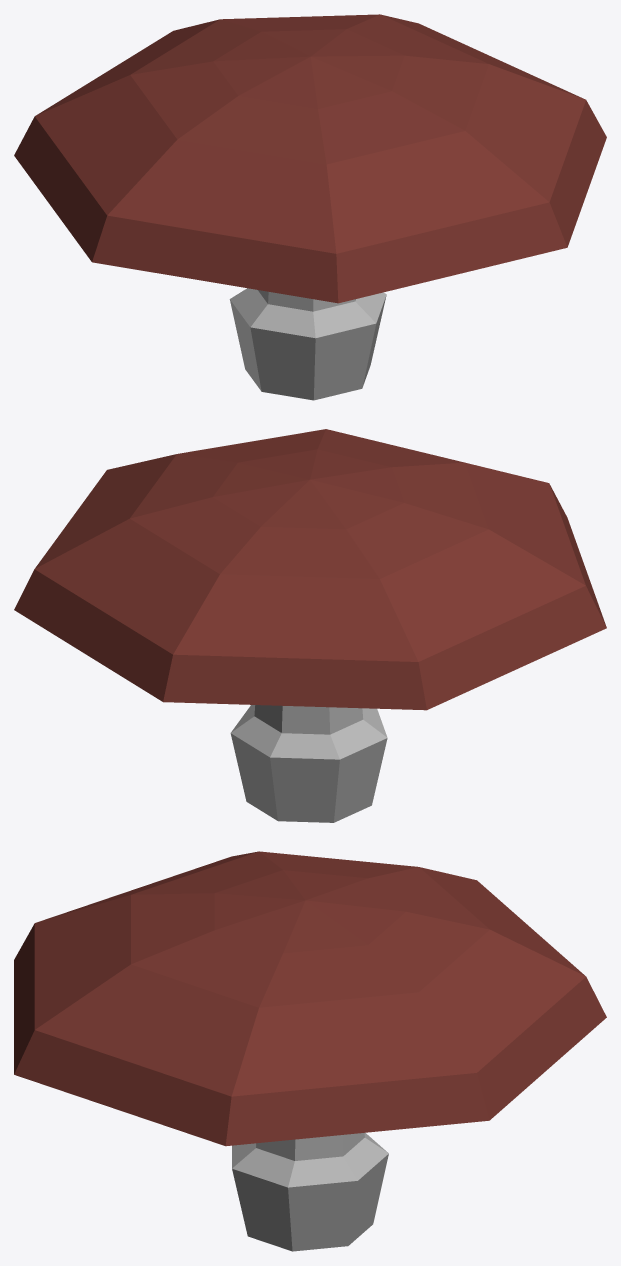
File: plant_mushroom_giant_3.glb
3 views of the same model, one above another, from view 1: azimuth 30°, elevation 25°; view 2: azimuth 150°, elevation 25°; view 3: azimuth 270°, elevation 25° (orthographic). The views are drawn at different scales.
Parts seen in each view (by area): view 1: plant_mushroom_giant_3; view 2: plant_mushroom_giant_3; view 3: plant_mushroom_giant_3.
Boxes of the visible parts, x1,y1,x2,y2 form: plant_mushroom_giant_3: [14, 14, 606, 400]; plant_mushroom_giant_3: [14, 429, 606, 822]; plant_mushroom_giant_3: [14, 851, 606, 1251].
Size of the model in its own units: 8.5 by 5 by 8.28.
